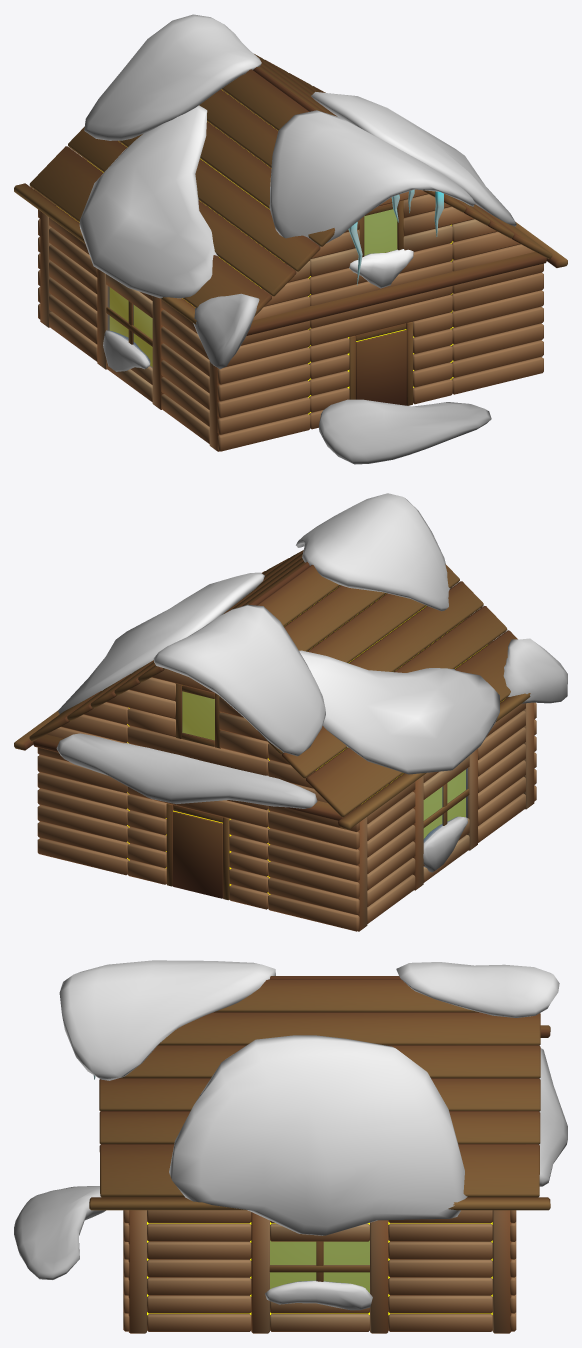
The model's file is Cottage_01.fbx.
3 views of the same model, one above another, from view 1: azimuth 30°, elevation 25°; view 2: azimuth 150°, elevation 25°; view 3: azimuth 270°, elevation 25° (orthographic). The views are drawn at different scales.
Parts seen in each view (by area): view 1: Cottage_01; view 2: Cottage_01; view 3: Cottage_01.
Boxes of the visible parts, left/top/right/bottom form: Cottage_01: left=14, top=14, right=567, bottom=464; Cottage_01: left=14, top=493, right=567, bottom=931; Cottage_01: left=14, top=960, right=567, bottom=1333.
Size of the model in its own units: 552 by 377 by 673.
